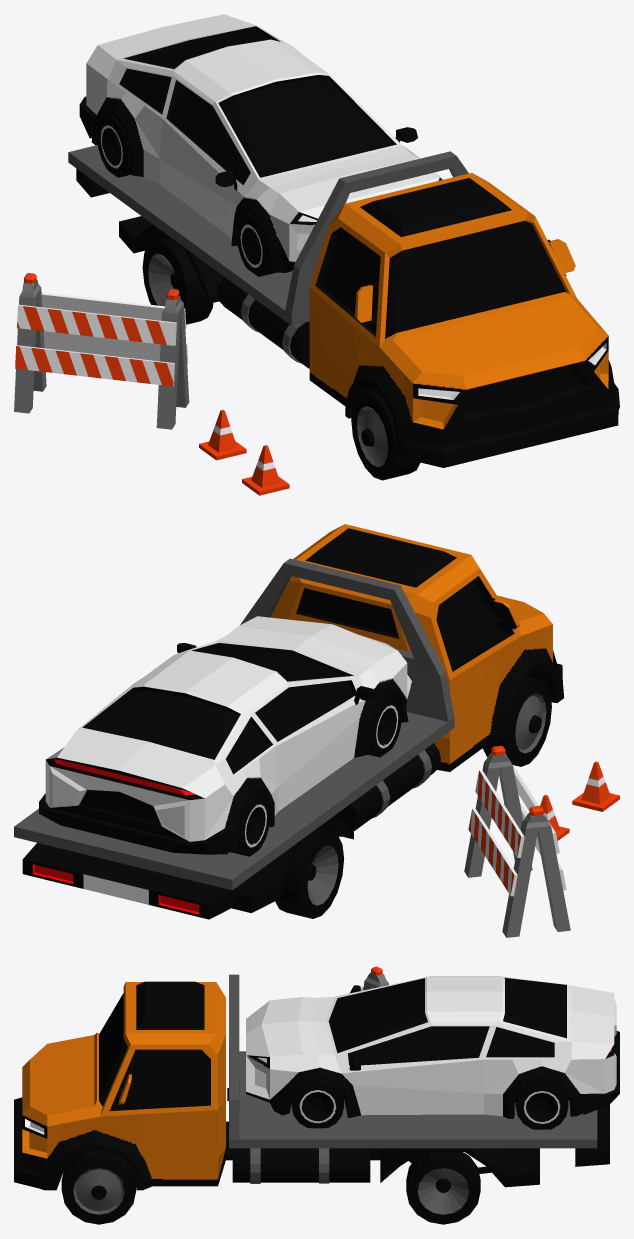
The model's file is uploads_files_3935360_Demo.fbx.
3 renders of one model, top to bottom at view 1: azimuth 30°, elevation 25°; view 2: azimuth 150°, elevation 25°; view 3: azimuth 270°, elevation 25°, orthographic. The views are drawn at different scales.
Visible parts, largest first — view 1: TowTruck, Car_2Doors, RoadBlock, RoadCone2, RoadCone; view 2: TowTruck, Car_2Doors, RoadBlock, RoadCone; view 3: TowTruck, Car_2Doors, RoadBlock.
Boxes of the visible parts, bbox=[...] form: TowTruck: bbox=[68, 145, 619, 480]; Car_2Doors: bbox=[79, 14, 442, 276]; RoadBlock: bbox=[14, 273, 189, 429]; RoadCone2: bbox=[199, 409, 246, 460]; RoadCone: bbox=[242, 445, 289, 495]; TowTruck: bbox=[14, 524, 564, 919]; Car_2Doors: bbox=[39, 616, 412, 856]; RoadBlock: bbox=[464, 745, 570, 937]; RoadCone: bbox=[572, 761, 619, 811]; TowTruck: bbox=[14, 974, 609, 1224]; Car_2Doors: bbox=[246, 976, 619, 1129]; RoadBlock: bbox=[337, 966, 388, 995].
Bounding box in the file's own units: 499 × 261 × 755.
